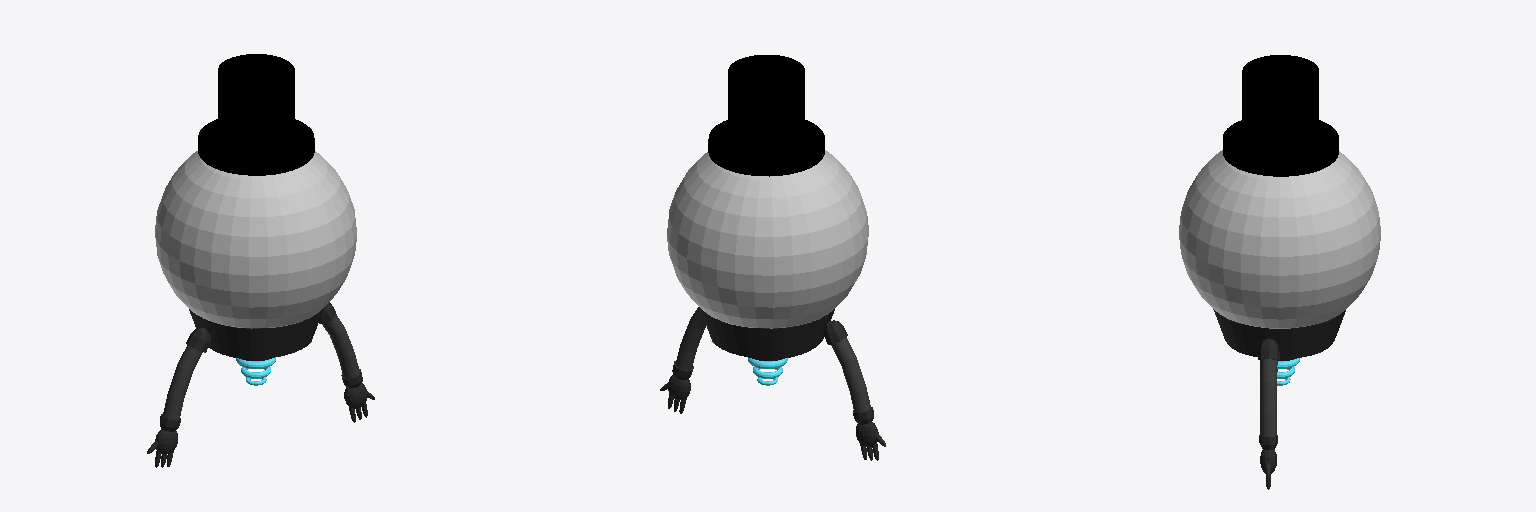
Rendered from fish.obj.
The picture shows the model from 3 angles: view 1: azimuth 30°, elevation 25°; view 2: azimuth 150°, elevation 25°; view 3: azimuth 270°, elevation 25°; orthographic projection.
Visible parts, largest first — view 1: Cube.026_Cube.033, Cube.023_Cube.030, Cube.003_Cube.007, Cube.009_Cube.013, Cube.010_Cube.014; view 2: Cube.026_Cube.033, Cube.023_Cube.030, Cube.003_Cube.007, Cube.009_Cube.013, Cube.010_Cube.014; view 3: Cube.026_Cube.033, Cube.023_Cube.030, Cube.003_Cube.007, Cube.010_Cube.014.
Boxes of the visible parts, <box> form: Cube.026_Cube.033: <box>155,151,356,328</box>; Cube.023_Cube.030: <box>198,54,314,175</box>; Cube.003_Cube.007: <box>189,307,324,358</box>; Cube.009_Cube.013: <box>163,345,202,419</box>; Cube.010_Cube.014: <box>322,315,359,378</box>; Cube.026_Cube.033: <box>667,150,868,328</box>; Cube.023_Cube.030: <box>708,55,824,176</box>; Cube.003_Cube.007: <box>699,307,834,358</box>; Cube.009_Cube.013: <box>831,338,870,412</box>; Cube.010_Cube.014: <box>676,307,705,370</box>; Cube.026_Cube.033: <box>1179,150,1380,328</box>; Cube.023_Cube.030: <box>1223,55,1338,176</box>; Cube.003_Cube.007: <box>1213,309,1345,358</box>; Cube.010_Cube.014: <box>1260,359,1277,436</box>.
Size of the model in its own units: 3.61 by 5.64 by 2.79.